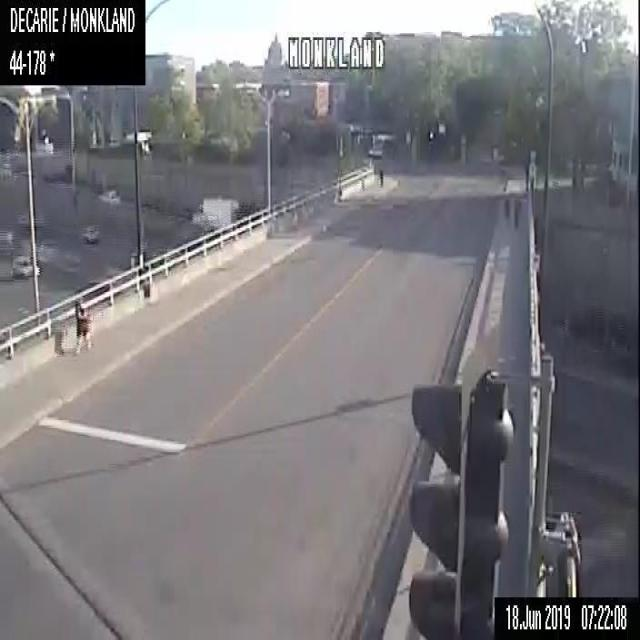bus: (367, 134, 392, 158)
pedestrian: (73, 298, 91, 351), (514, 192, 520, 228), (504, 189, 509, 223), (378, 165, 384, 187)
vehicle: (191, 194, 234, 227), (11, 252, 39, 279), (95, 185, 120, 207), (80, 223, 100, 244), (13, 211, 30, 228)
